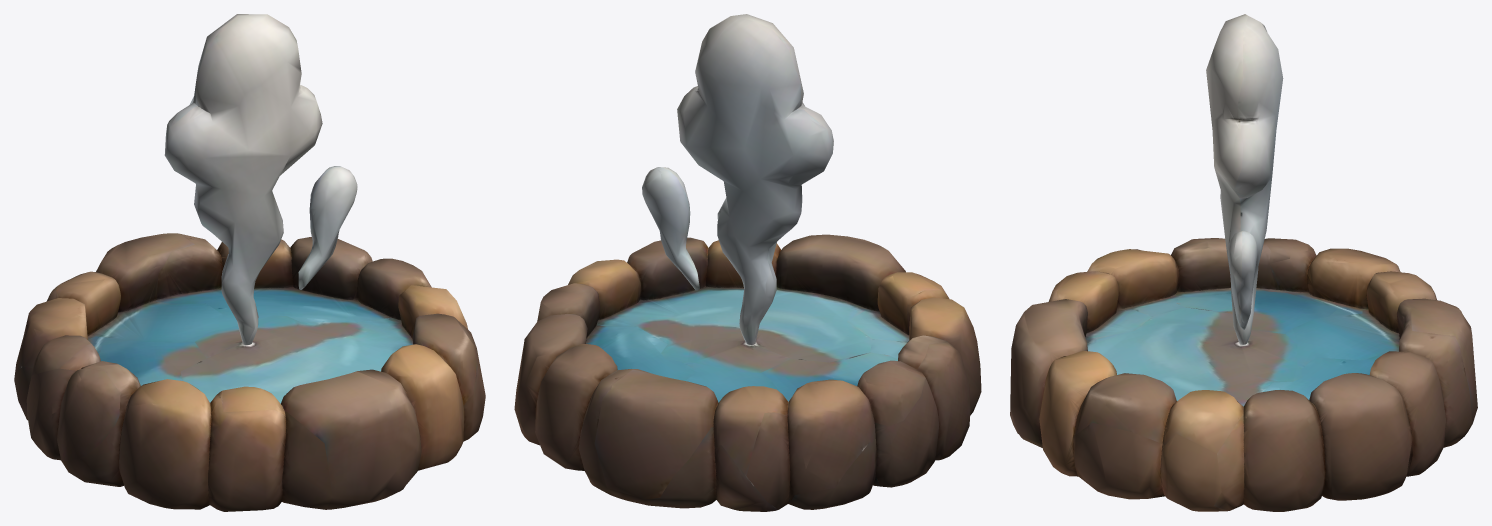
Rendered from spring_pbr.glb.
The picture shows the model from 3 angles, left to right: view 1: azimuth 30°, elevation 25°; view 2: azimuth 150°, elevation 25°; view 3: azimuth 270°, elevation 25°; orthographic projection.
Visible parts, largest first — view 1: model.015; view 2: model.015; view 3: model.015.
Part boxes in pixels (<box>): model.015: <box>14,14,485,511</box>; model.015: <box>514,14,981,511</box>; model.015: <box>1010,14,1477,511</box>.
Size of the model in its own units: 1.75 by 1.72 by 1.8.
Materials: 1 (1 with a texture image).
